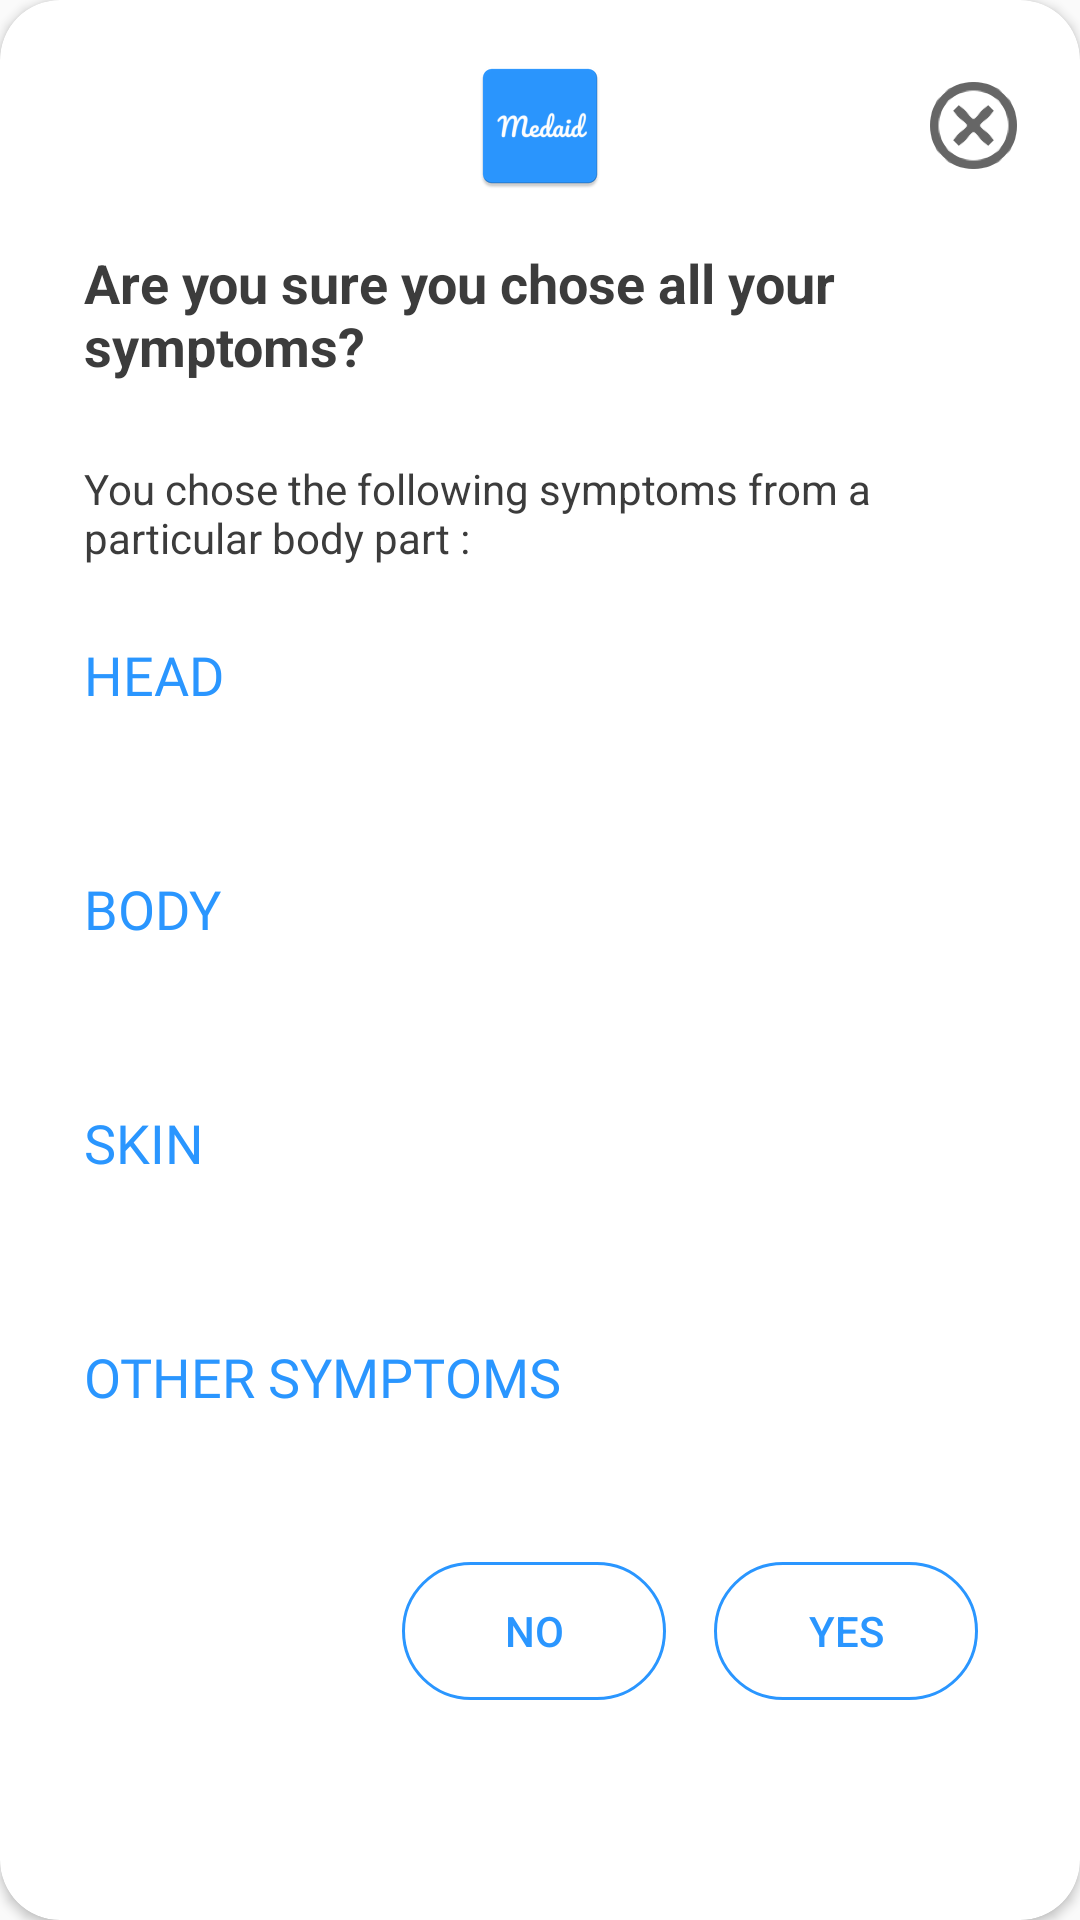

Screen size 1080x1920. Icon name, then its box in pixels as box(x1, y1, x2, y2):
cancel: box(930, 82, 1017, 169)
